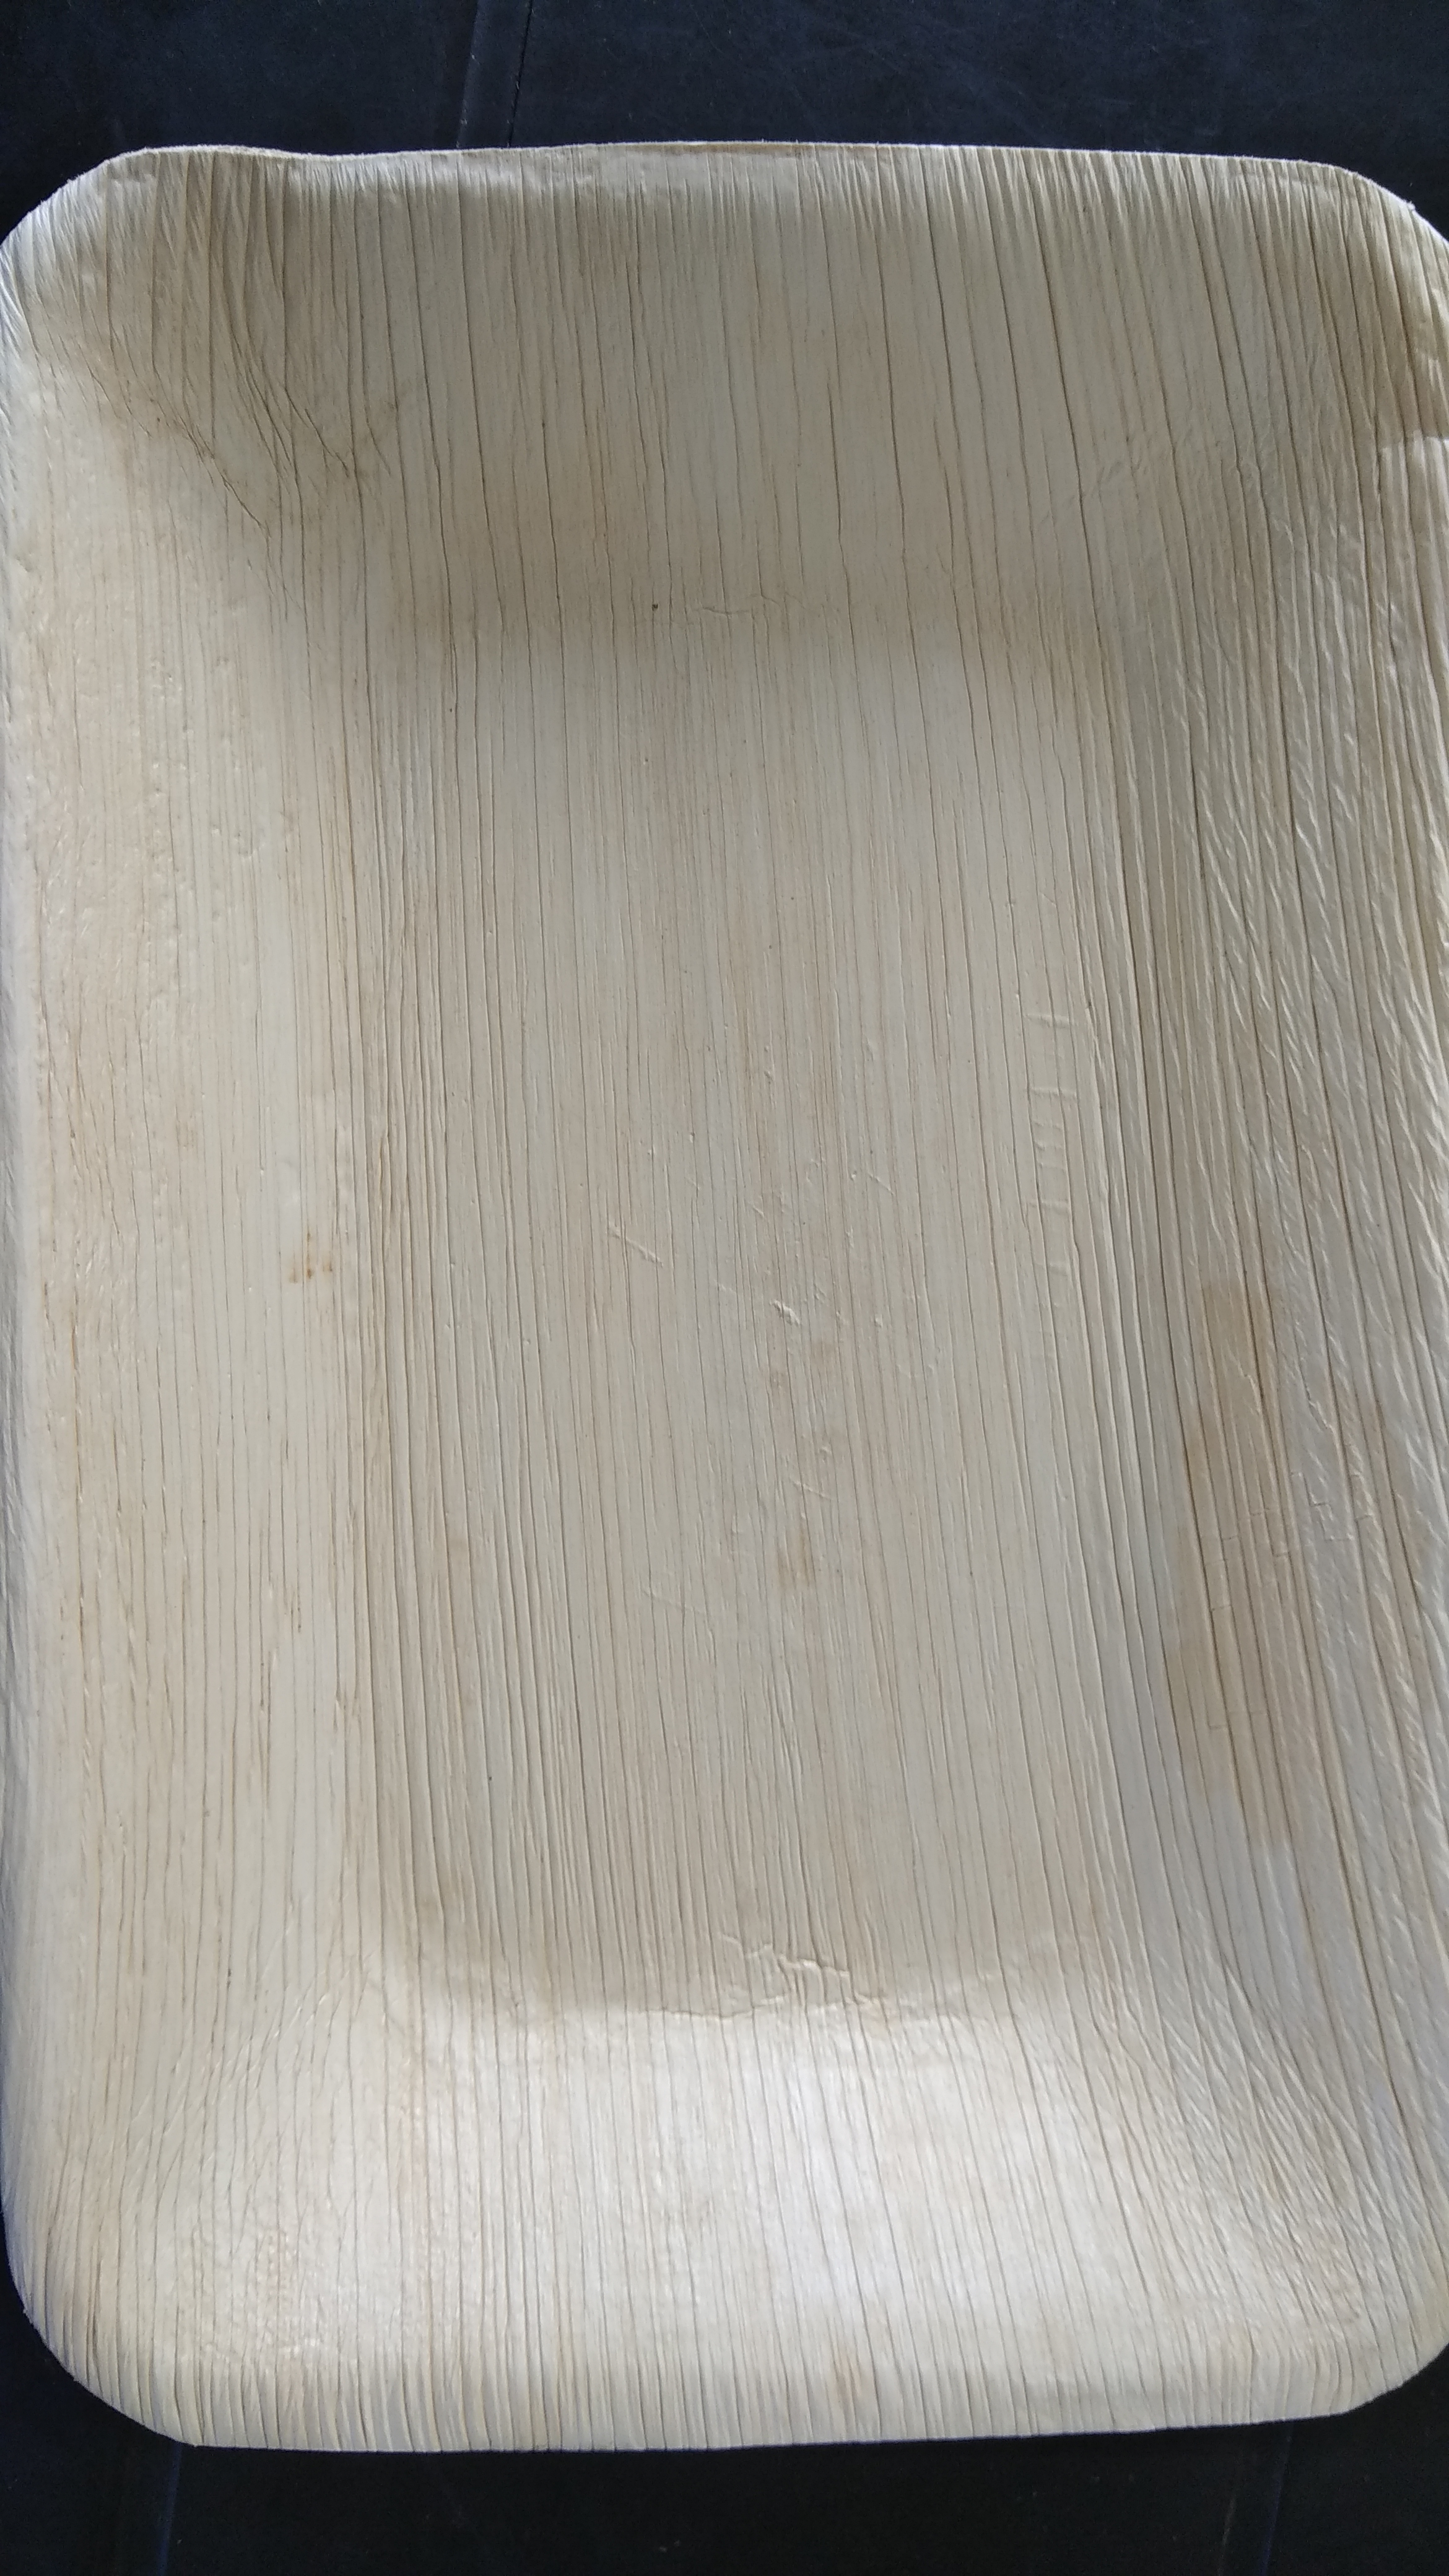areca plate: (25, 124, 1449, 2419)
